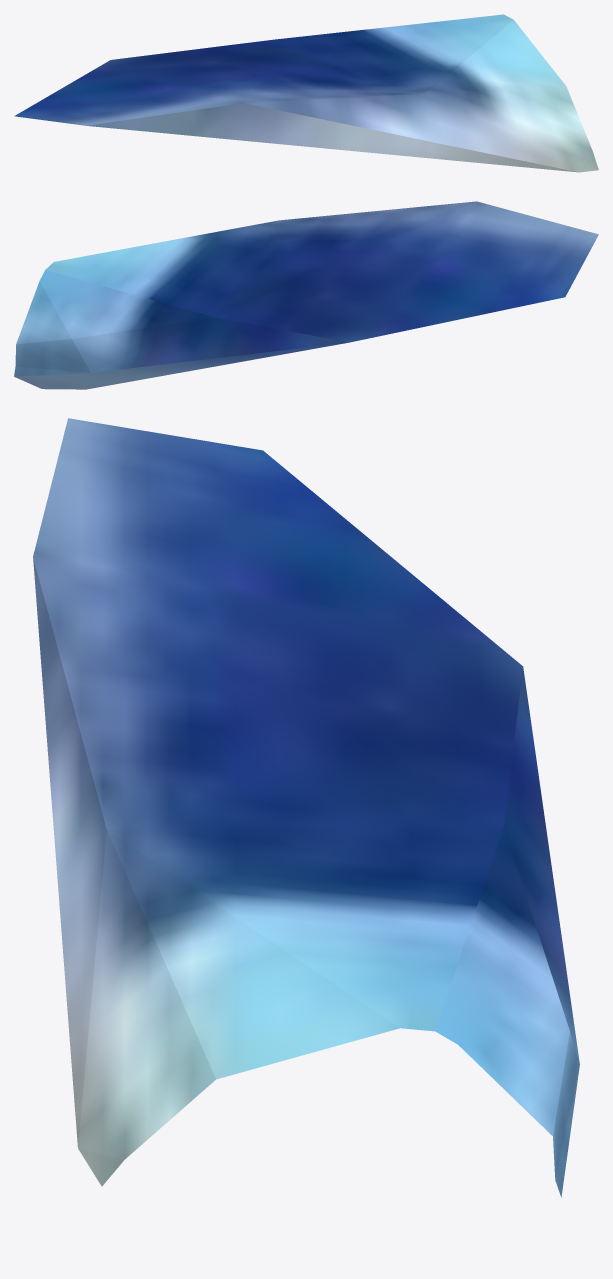
The model's file is Tile_+006_+007_L22_0000230.glb.
The picture shows the model from 3 angles, top to bottom: view 1: azimuth 30°, elevation 25°; view 2: azimuth 150°, elevation 25°; view 3: azimuth 270°, elevation 25°; orthographic projection. The views are drawn at different scales.
Parts seen in each view (by area): view 1: rtc; view 2: rtc; view 3: rtc.
Boxes of the visible parts, bbox=[...] form: rtc: bbox=[14, 14, 598, 172]; rtc: bbox=[14, 201, 598, 389]; rtc: bbox=[33, 418, 579, 1197].
Bounding box in the file's own units: 0.723 × 0.286 × 0.3582.
1 material, 1 textured.
